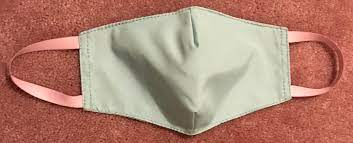FaceMask: (80, 5, 292, 135)
